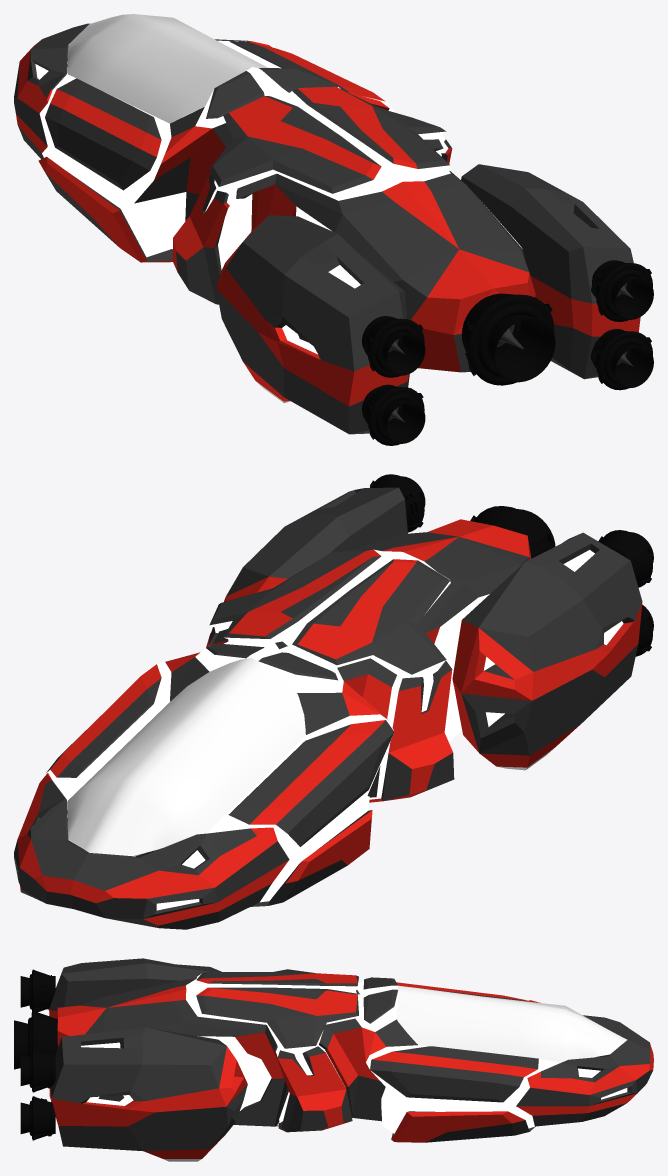
The model's file is 231103 Fighter Redesign C 03.glb.
3 views of the same model, one above another, from view 1: azimuth 30°, elevation 25°; view 2: azimuth 150°, elevation 25°; view 3: azimuth 270°, elevation 25° (orthographic). The views are drawn at different scales.
Parts seen in each view (by area): view 1: Fighter 10DT Type C; view 2: Fighter 10DT Type C; view 3: Fighter 10DT Type C.
Boxes of the visible parts, x1=… form: Fighter 10DT Type C: x1=14, y1=14, x2=653, y2=445; Fighter 10DT Type C: x1=14, y1=474, x2=653, y2=929; Fighter 10DT Type C: x1=14, y1=958, x2=653, y2=1161.
Bounding box in the file's own units: 4.61 × 2.47 × 10.84.
